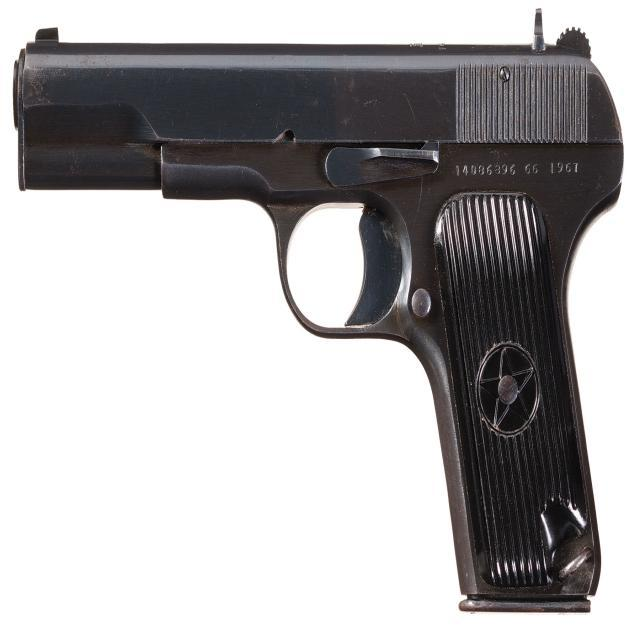Pistol: (9, 15, 635, 630)
